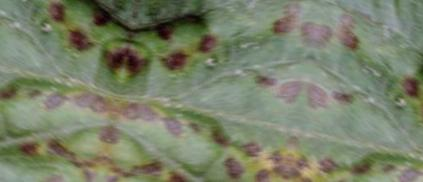Tomato leaf bacterial spot: (79, 0, 340, 182)
